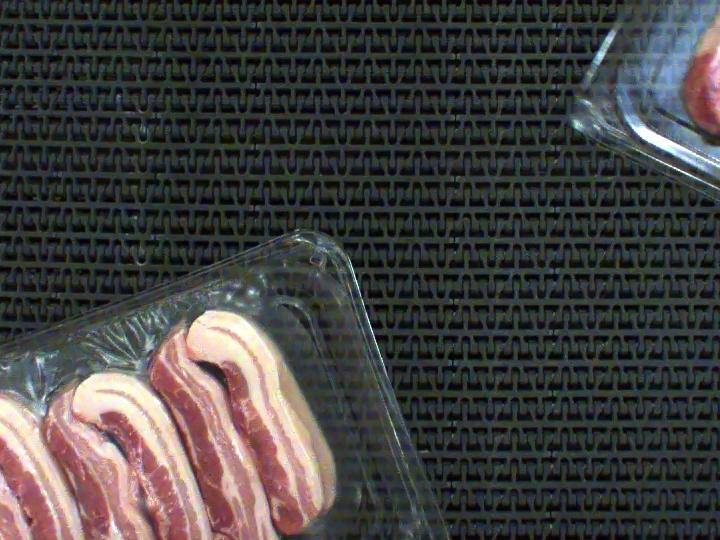unsealed: (0, 283, 305, 540)
